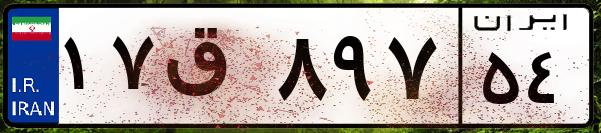1: (57, 26, 110, 100)
4: (525, 38, 570, 115)
5: (475, 38, 525, 113)
7: (385, 28, 445, 110), (110, 28, 158, 98)
8: (270, 28, 330, 110)
9: (330, 28, 385, 110)
ق: (158, 20, 270, 120)
